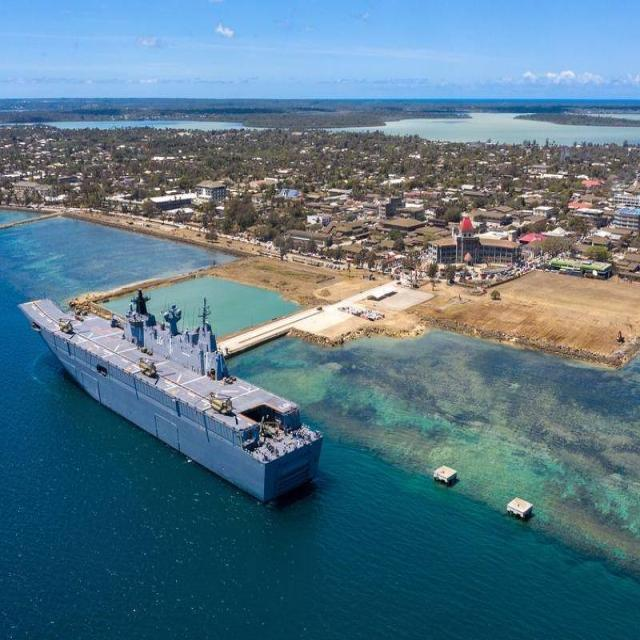ship2: (18, 291, 322, 507)
